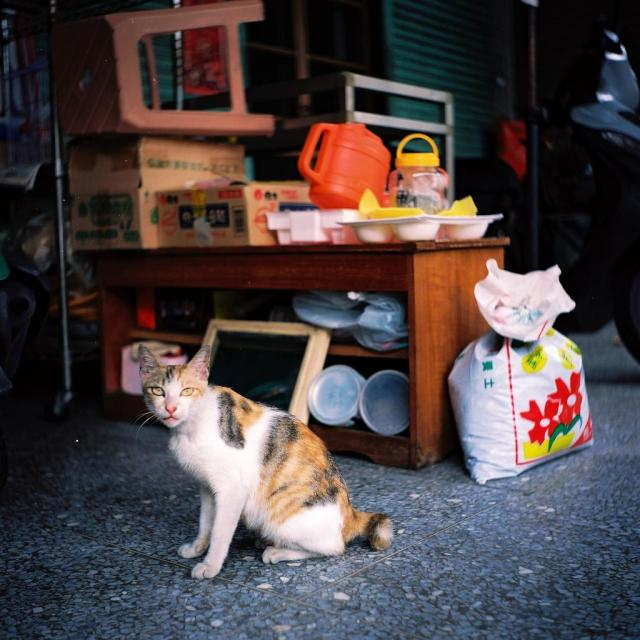Cat: (120, 340, 398, 585)
